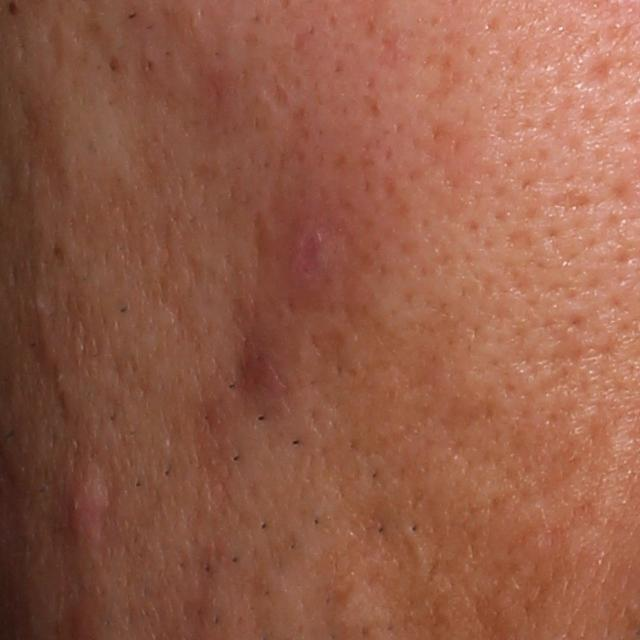atrophic_scar: (11, 98, 73, 196), (235, 300, 285, 417), (423, 48, 466, 111), (578, 52, 627, 88)
comedo: (141, 55, 159, 76)
papule: (282, 221, 340, 287), (65, 466, 108, 543)
